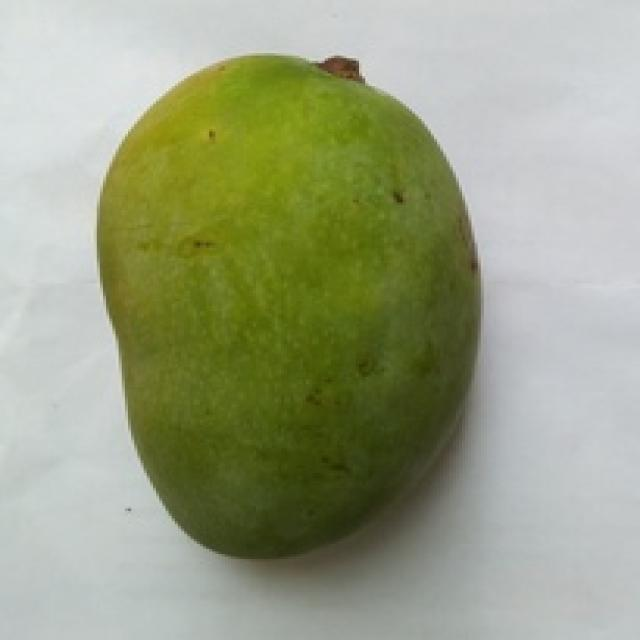Mango: (100, 56, 478, 557)
